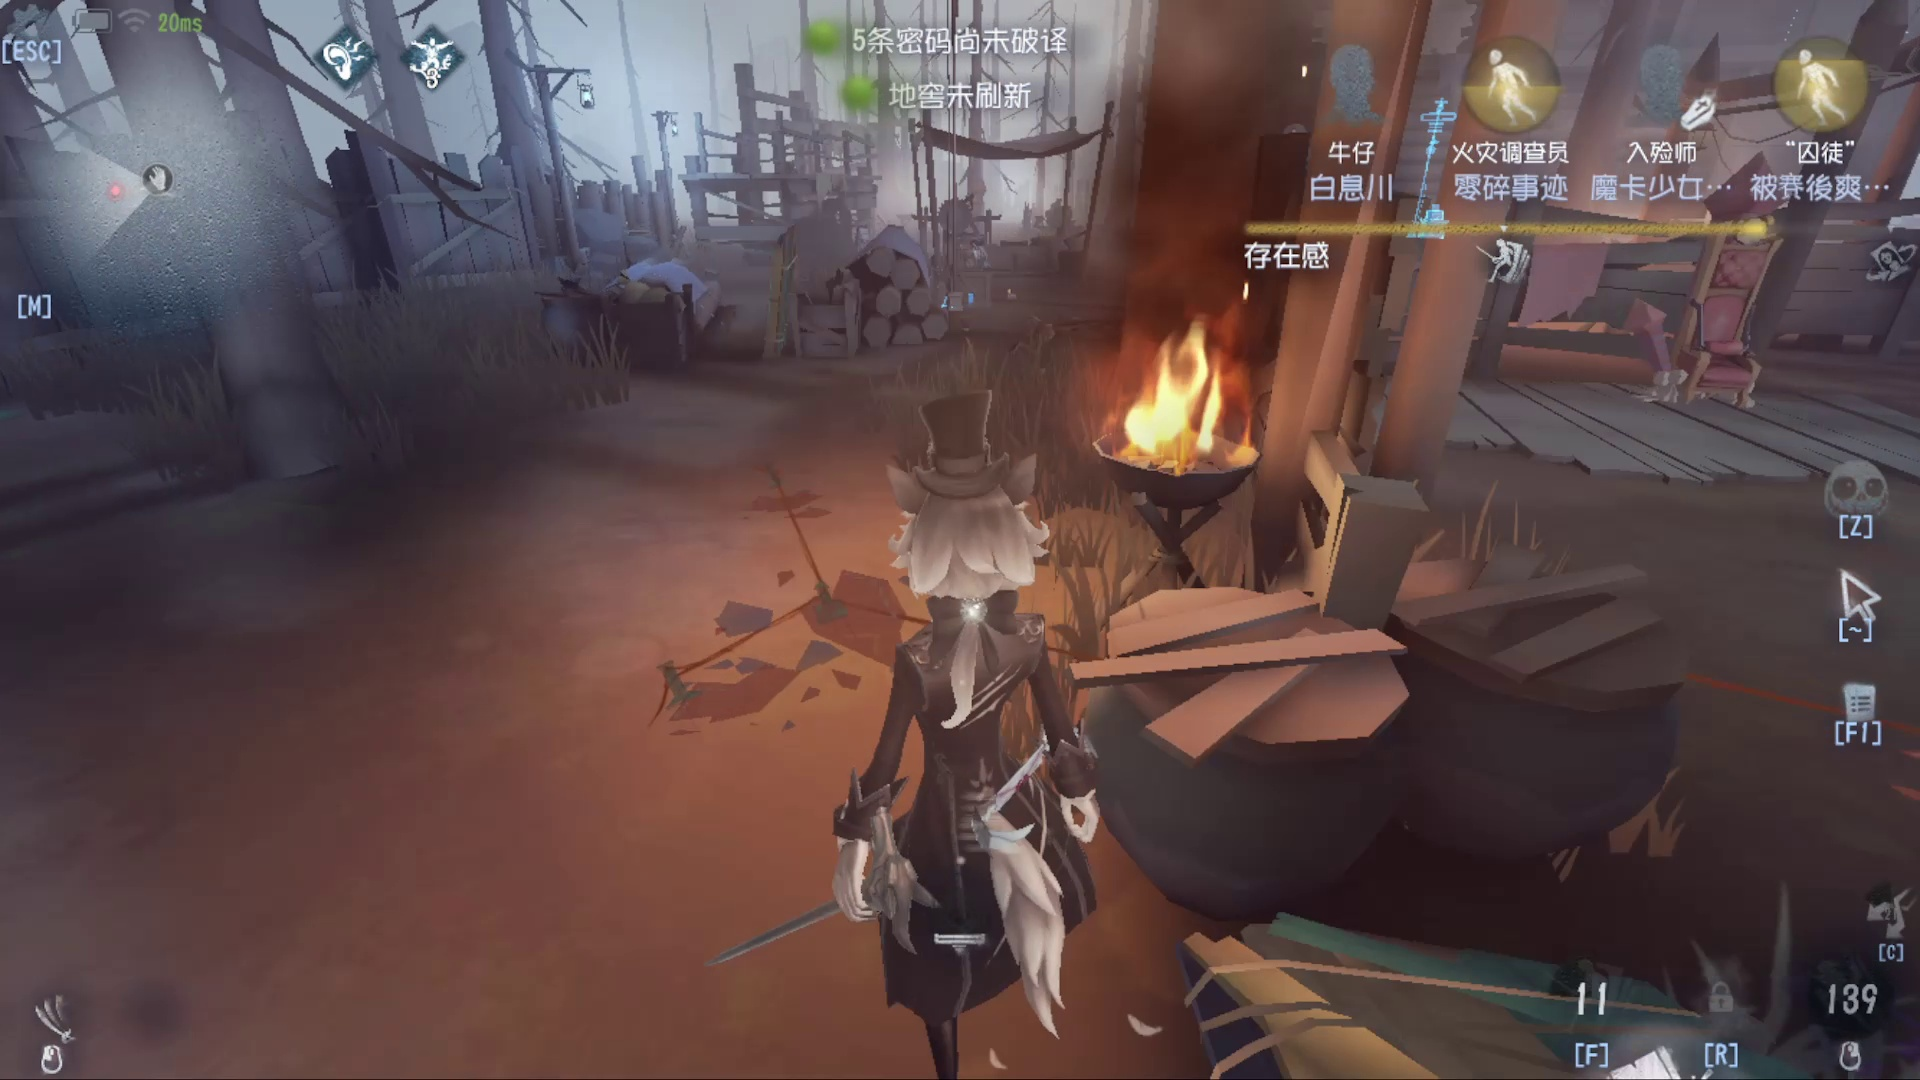木板: (745, 231, 808, 378)
狂欢之椅: (1687, 141, 1784, 440)
